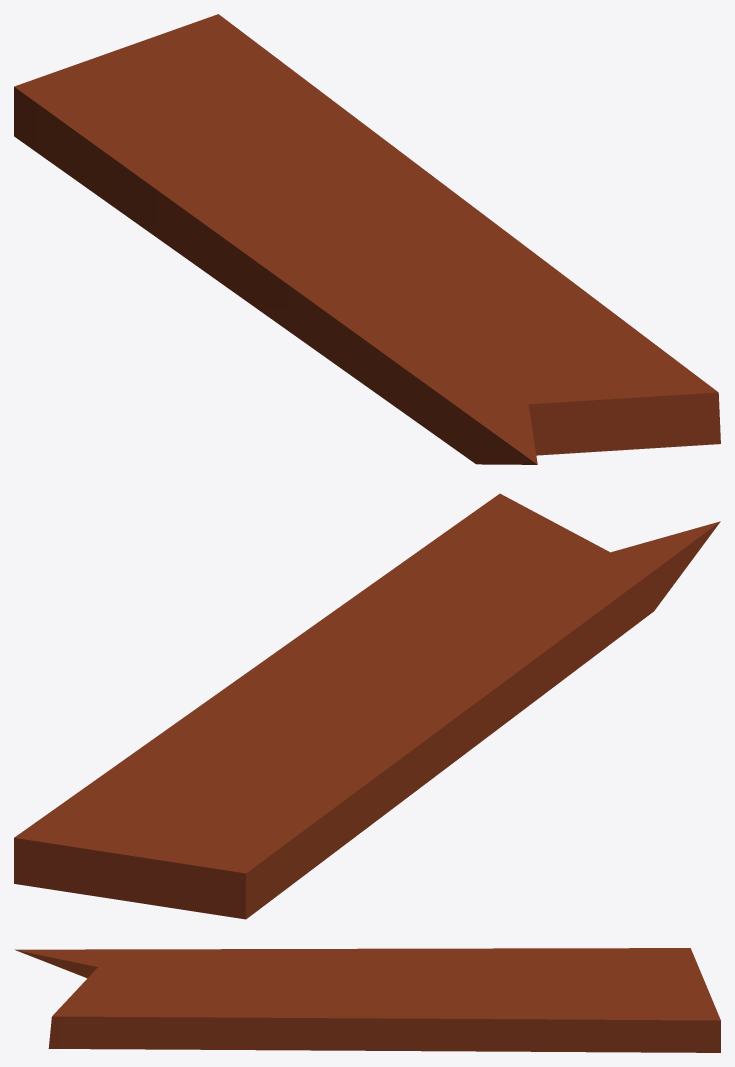
File: BrokenBoard6.fbx
3 renders of one model, top to bottom at view 1: azimuth 30°, elevation 25°; view 2: azimuth 150°, elevation 25°; view 3: azimuth 270°, elevation 25°, orthographic. The views are drawn at different scales.
Parts seen in each view (by area): view 1: BrokenBoard.006; view 2: BrokenBoard.006; view 3: BrokenBoard.006.
Part boxes in pixels (<box>): BrokenBoard.006: <box>14,14,720,464</box>; BrokenBoard.006: <box>14,493,720,919</box>; BrokenBoard.006: <box>14,948,720,1052</box>.
Bounding box in the file's own units: 185 × 38.61 × 762.
